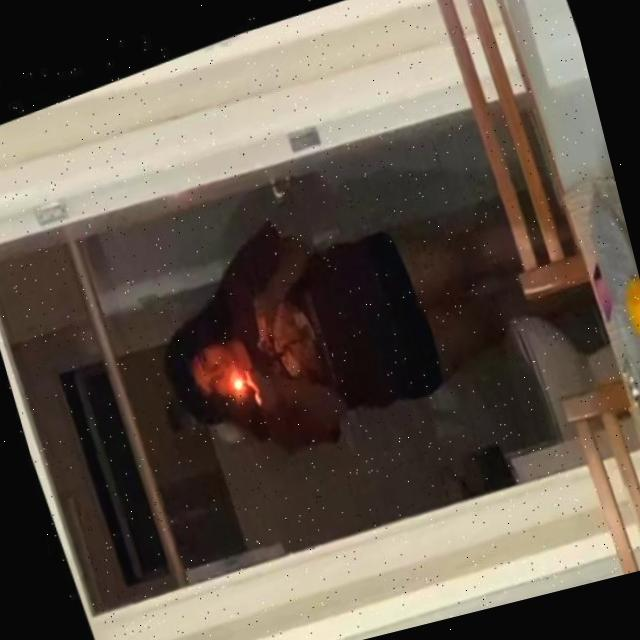fire: (218, 357, 250, 399)
